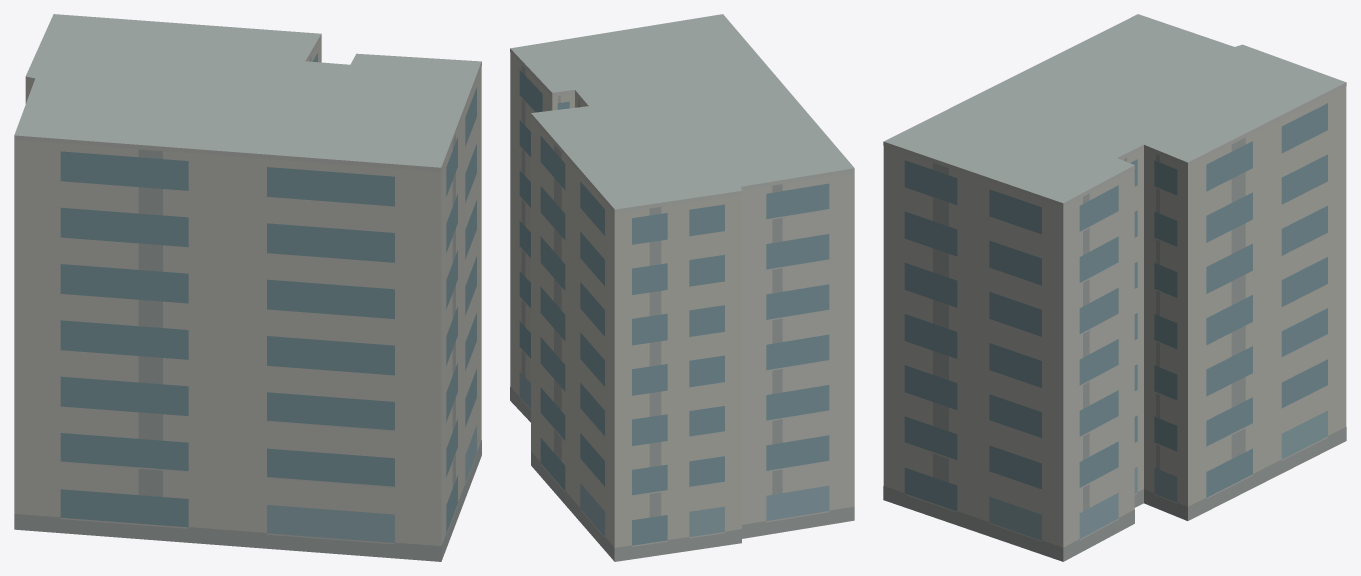
File: survey-upis-32890120.glb
The picture shows the model from 3 angles, left to right: view 1: azimuth 30°, elevation 25°; view 2: azimuth 150°, elevation 25°; view 3: azimuth 270°, elevation 25°; orthographic projection. The views are drawn at different scales.
Parts seen in each view (by area): view 1: survey-upis-32890120.tmp; view 2: survey-upis-32890120.tmp; view 3: survey-upis-32890120.tmp.
Part boxes in pixels (box(x1,y1,x2,y2)): survey-upis-32890120.tmp: box(14, 14, 481, 561); survey-upis-32890120.tmp: box(510, 14, 854, 561); survey-upis-32890120.tmp: box(883, 14, 1346, 561).
Size of the model in its own units: 23.78 by 21 by 24.58.
